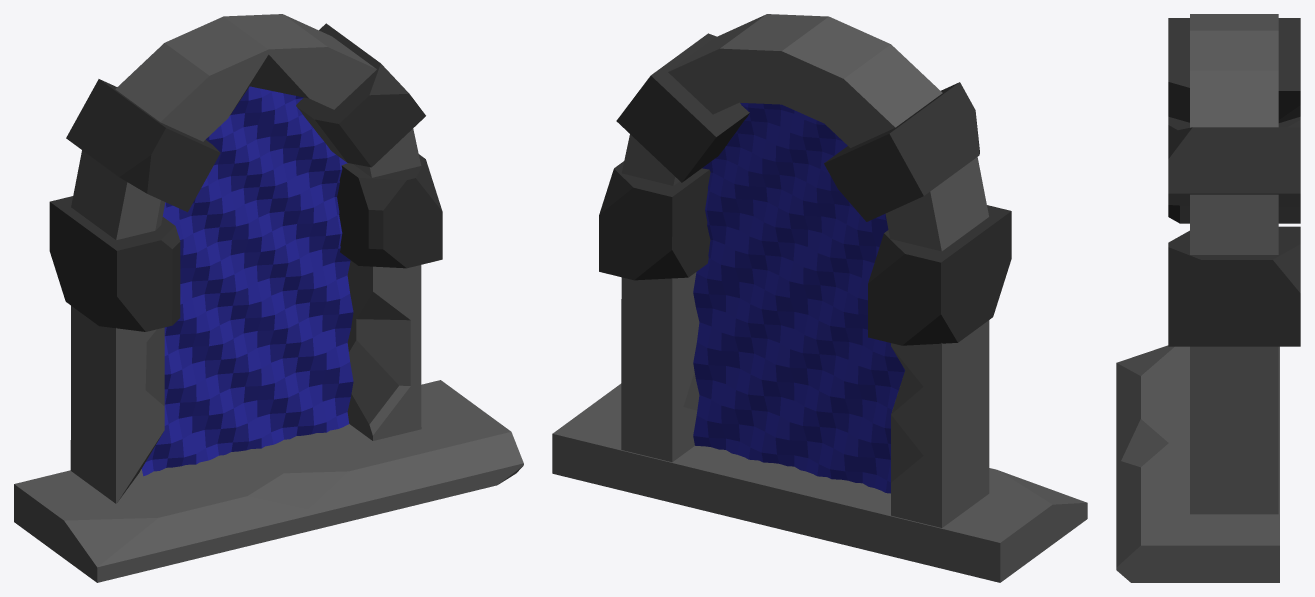
Rendered from Portal.fbx.
3 renders of one model, left to right at view 1: azimuth 30°, elevation 25°; view 2: azimuth 150°, elevation 25°; view 3: azimuth 270°, elevation 25°, orthographic. The views are drawn at different scales.
Visible parts, largest first — view 1: Plane.003, Plane.001, Plane, Plane.002; view 2: Plane.003, Plane.001, Plane.002, Plane; view 3: Plane.001, Plane.002, Plane.
Part boxes in pixels (x1,y1,x2,y2): Plane.003: (142, 86, 353, 476); Plane.001: (70, 14, 421, 503); Plane: (14, 380, 523, 582); Plane.002: (49, 23, 442, 331); Plane.003: (693, 103, 904, 493); Plane.001: (621, 14, 989, 527); Plane.002: (599, 33, 1011, 345); Plane: (552, 383, 1087, 582); Plane.001: (1190, 14, 1278, 514); Plane.002: (1168, 18, 1300, 346); Plane: (1116, 345, 1279, 582).
Bounding box in the file's own units: 409 × 418 × 156.
